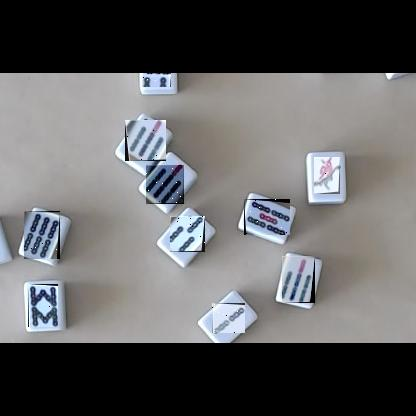1s: (314, 157, 340, 194)
2s: (212, 303, 245, 333)
3s: (170, 216, 205, 252)
5s: (244, 199, 290, 235), (142, 73, 171, 87)
6s: (24, 211, 60, 259)
7s: (125, 120, 166, 161), (282, 256, 315, 303), (146, 165, 184, 204)
8s: (28, 284, 58, 327)
